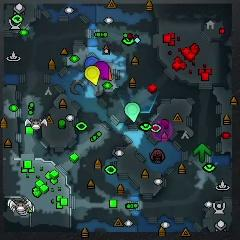Other: (151, 120, 173, 141)
p1: (84, 56, 99, 67)
p2: (124, 102, 140, 122)
p3: (94, 61, 109, 81)
p4: (85, 66, 100, 85)
p5: (108, 67, 113, 81)
x4: (193, 143, 211, 162)
